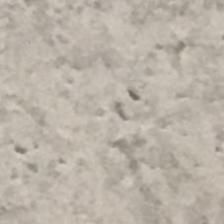Non_Crack: (17, 32, 202, 202)
